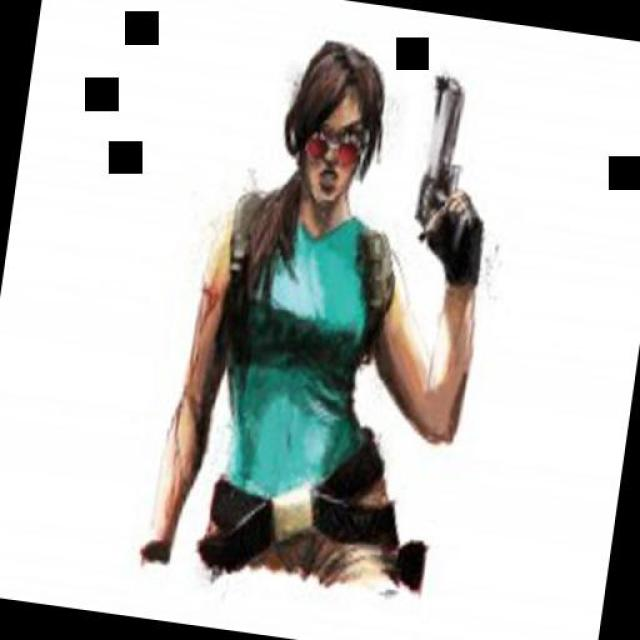gun: (389, 65, 519, 261)
